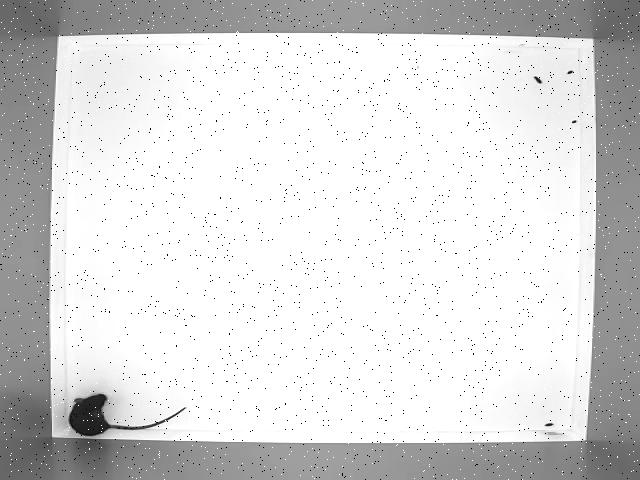Tikus: (69, 392, 189, 436)
